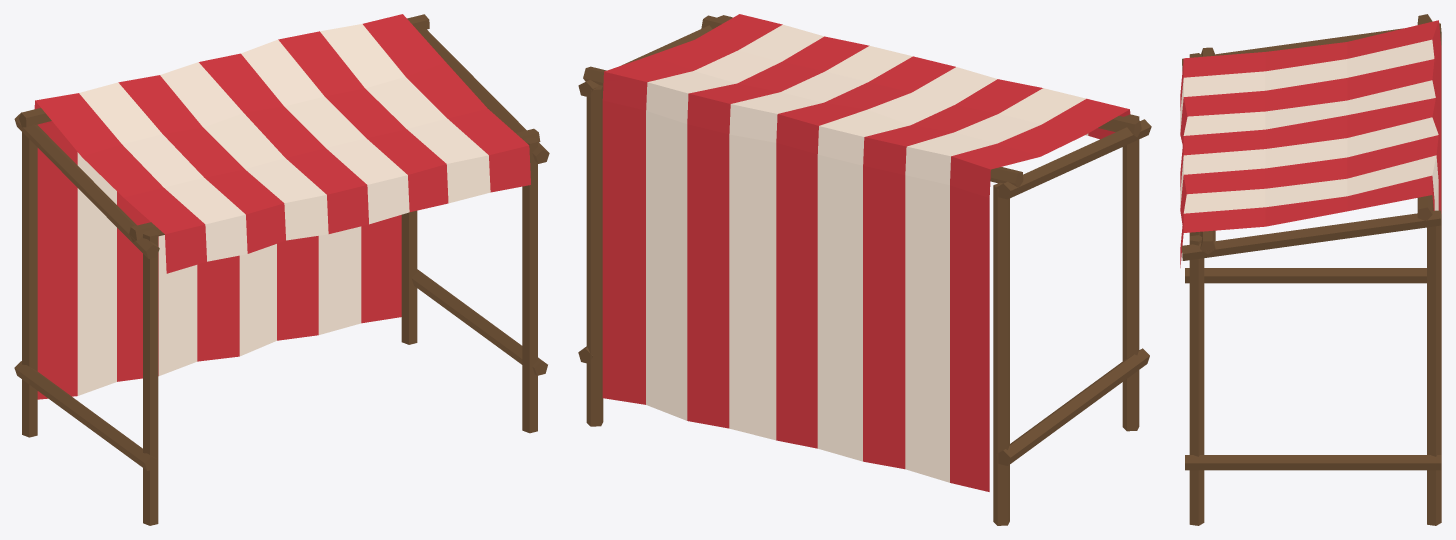
Rendered from marketplace-stand-simple.glb.
The picture shows the model from 3 angles, left to right: view 1: azimuth 30°, elevation 25°; view 2: azimuth 150°, elevation 25°; view 3: azimuth 270°, elevation 25°; orthographic projection. The views are drawn at different scales.
Parts seen in each view (by area): view 1: marketplace-stand-simple; view 2: marketplace-stand-simple; view 3: marketplace-stand-simple.
Part boxes in pixels (x1,y1,x2,y2): marketplace-stand-simple: (14, 14, 549, 525); marketplace-stand-simple: (578, 14, 1151, 525); marketplace-stand-simple: (1180, 14, 1441, 525).
Bounding box in the file's own units: 3.06 × 2.4 × 1.74.
1 material, 1 textured.
